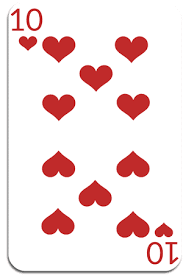ten of hearts: (10, 7, 180, 271)
